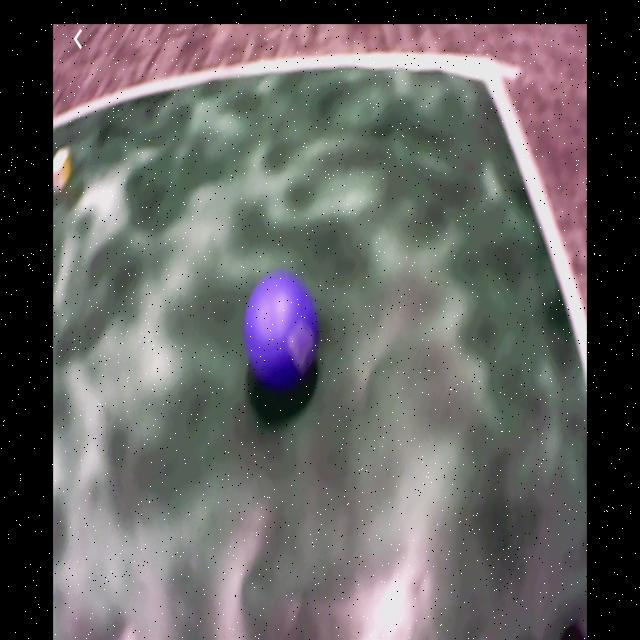ball: (247, 275, 319, 381)
